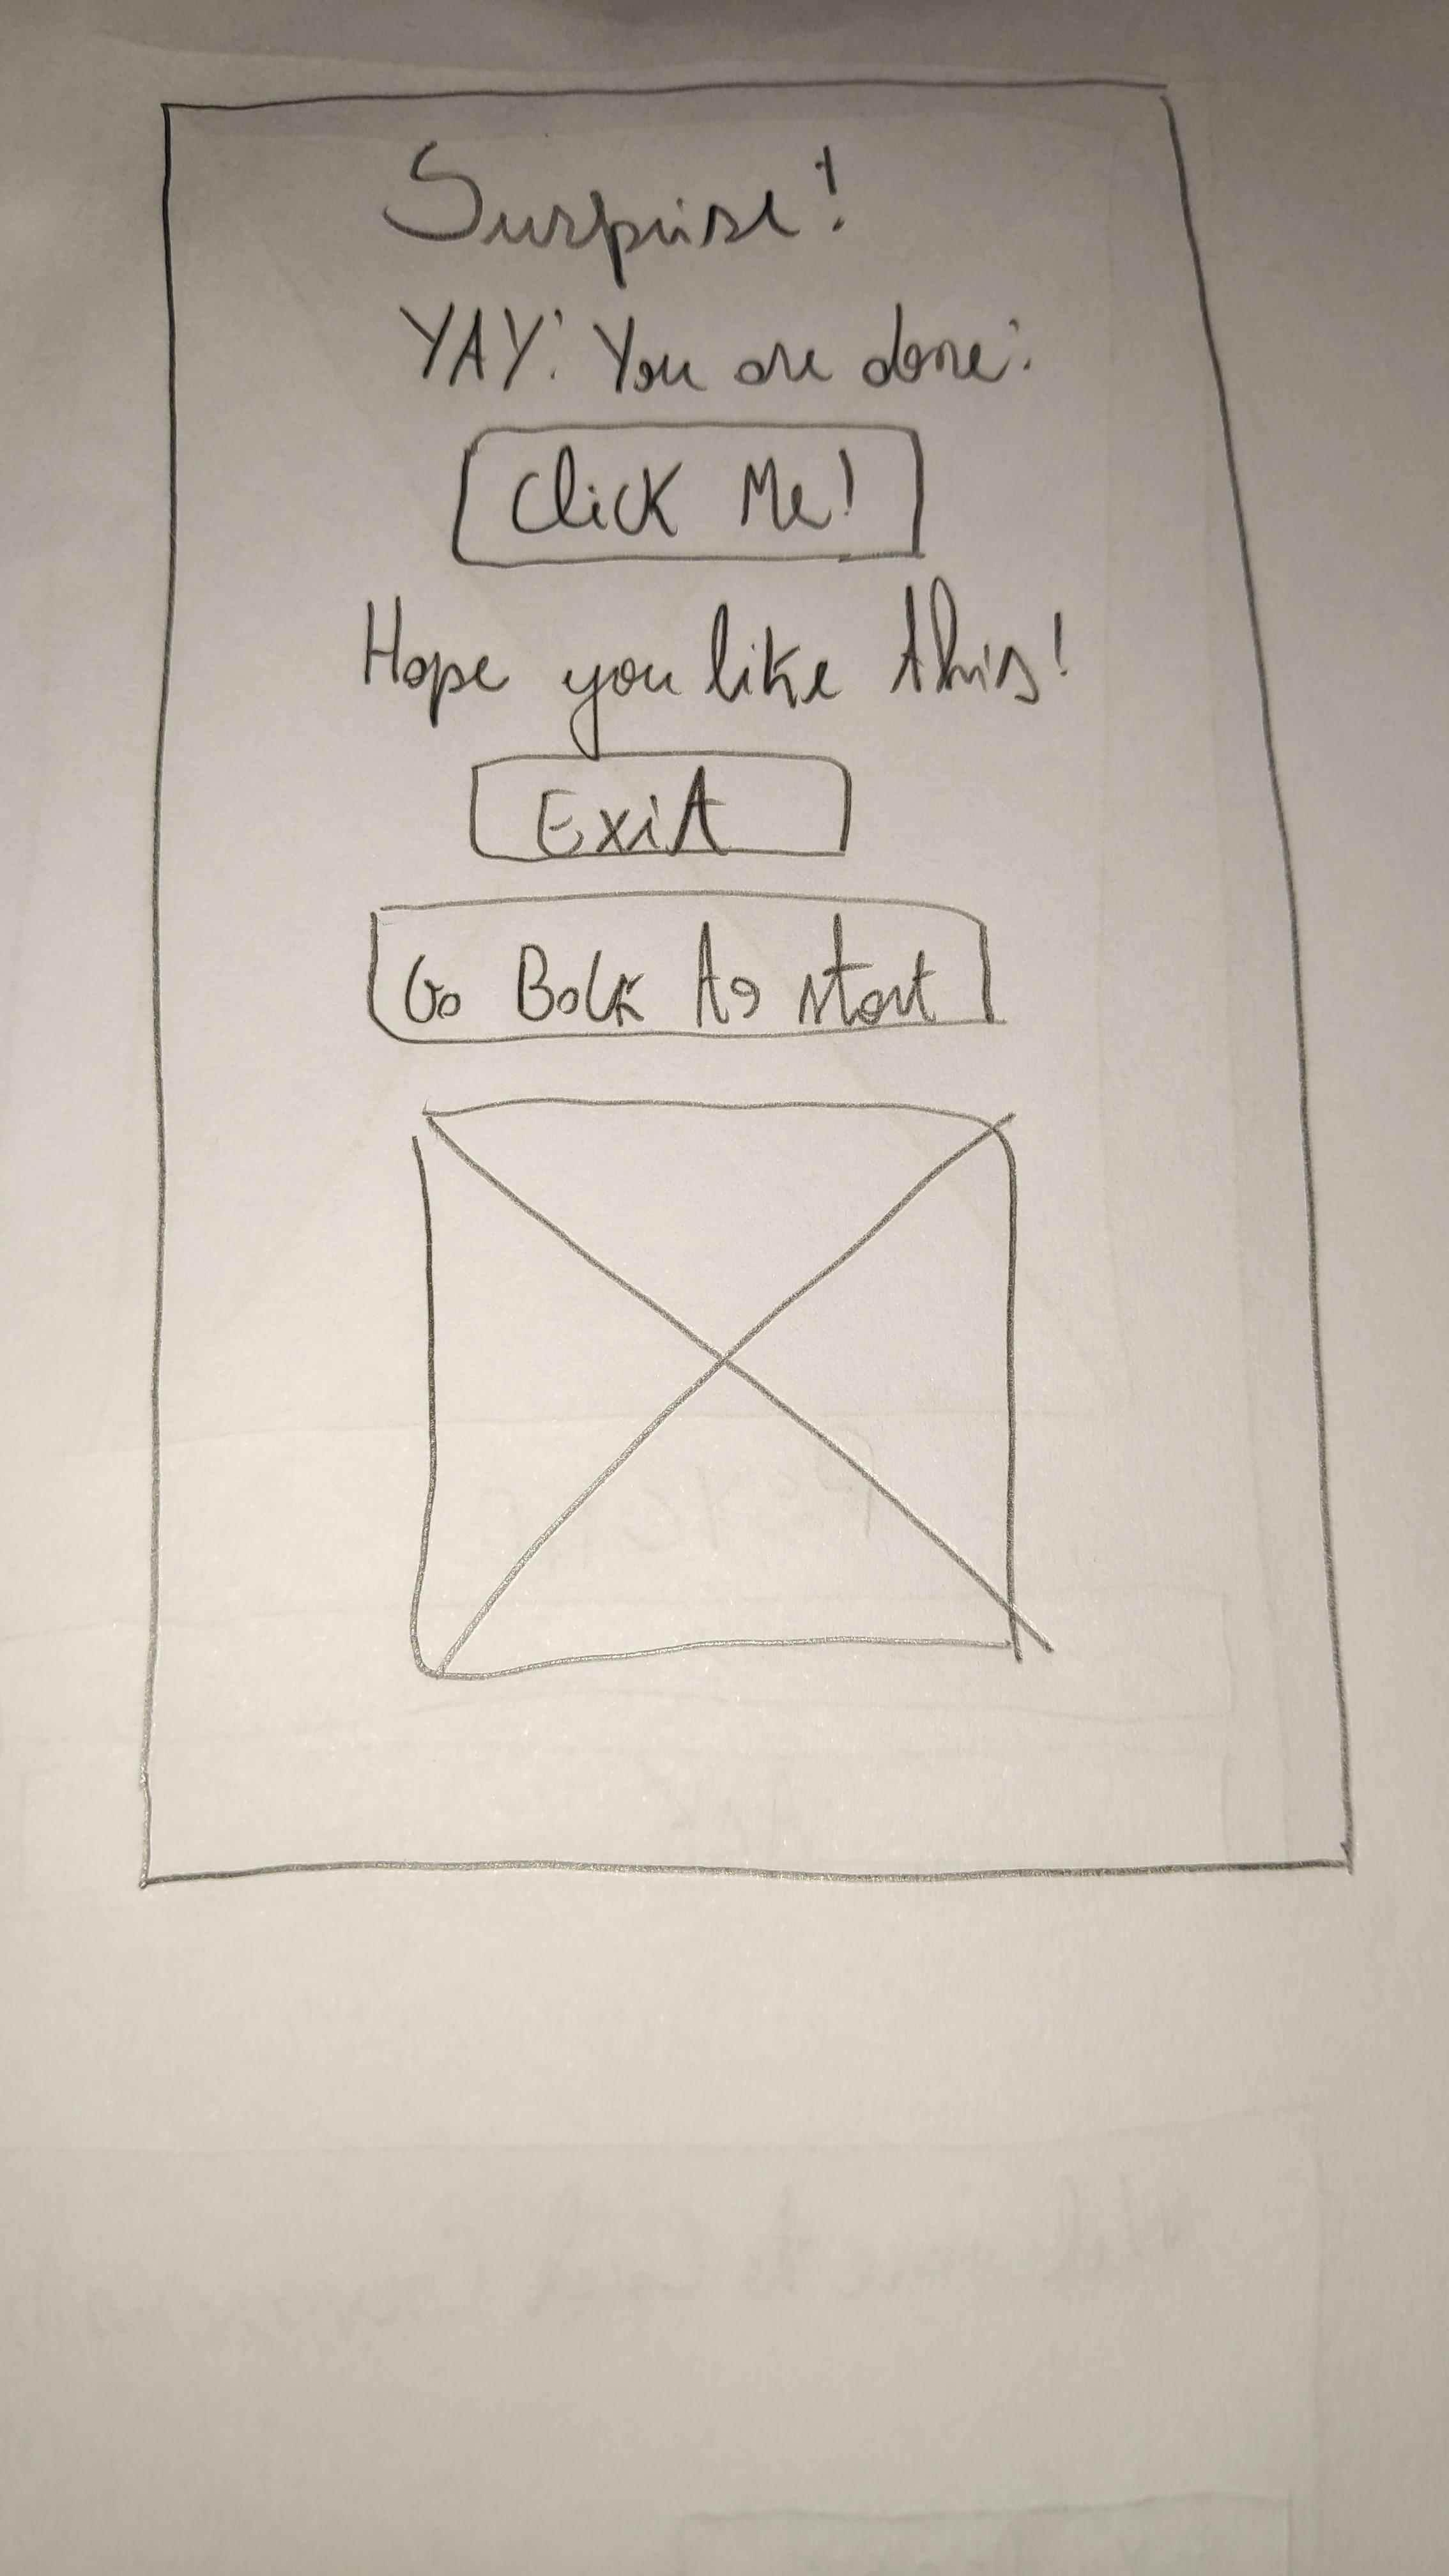Button: (368, 893, 994, 1046), (448, 421, 925, 570), (467, 752, 853, 860)
Image: (414, 1093, 1021, 1681)
Label: (359, 568, 1070, 757), (379, 134, 846, 288), (398, 295, 1042, 395)
Screen: (140, 80, 1353, 1886)
